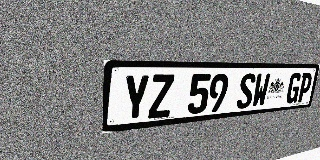5: (187, 74, 211, 115)
9: (207, 74, 230, 112)
G: (285, 73, 303, 104)
P: (296, 73, 313, 103)
S: (236, 73, 256, 109)
W: (251, 73, 271, 108)
Y: (122, 74, 150, 122)
Z: (148, 74, 175, 119)
